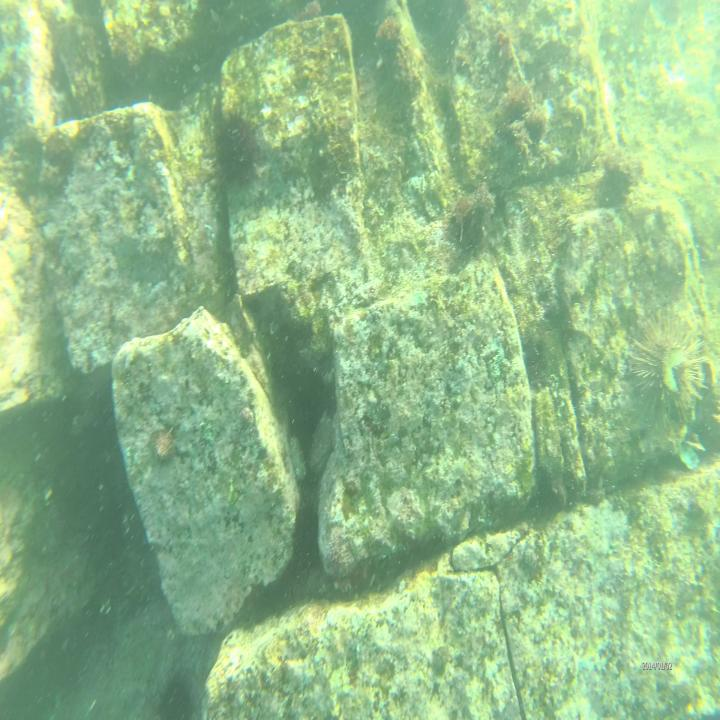echinus: (628, 304, 710, 462), (210, 104, 259, 202)
scallop: (375, 12, 406, 52), (148, 427, 180, 464)
